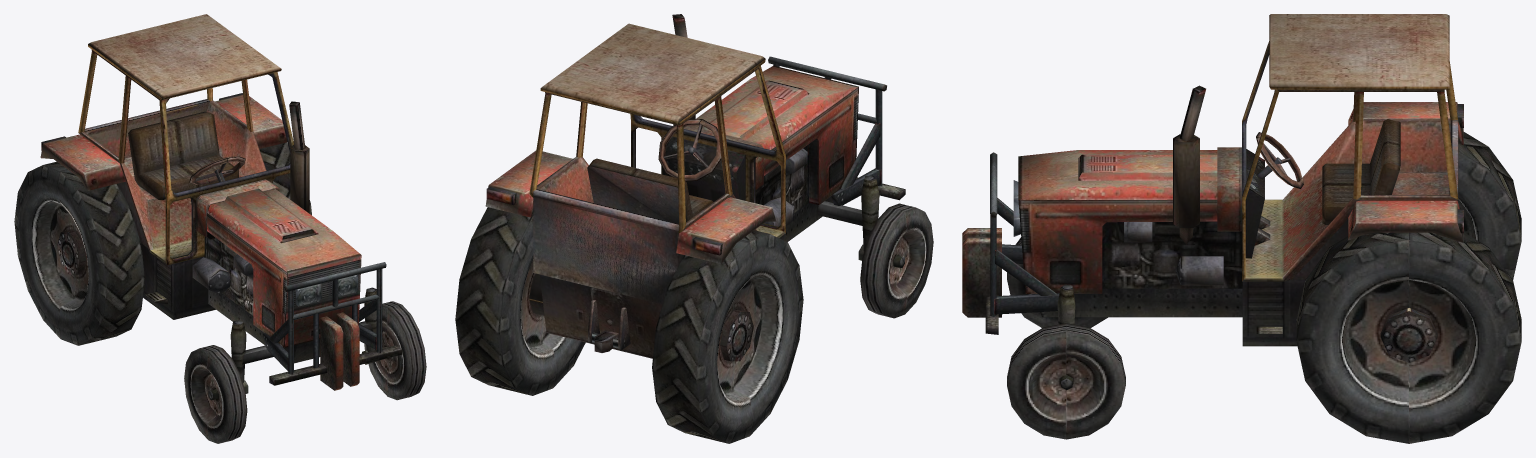
File: tractor.fbx
3 renders of one model, left to right at view 1: azimuth 30°, elevation 25°; view 2: azimuth 150°, elevation 25°; view 3: azimuth 270°, elevation 25°, orthographic. The views are drawn at different scales.
Visible parts, largest first — view 1: body, b2, f2, f1, b1; view 2: body, b2, b1, f2; view 3: body, b1, f1, b2, f2.
Boxes of the visible parts, left/top/right/bottom form: body: left=40, top=14, right=402, bottom=400; b2: left=14, top=161, right=144, bottom=345; f2: left=184, top=345, right=247, bottom=443; f1: left=364, top=301, right=426, bottom=400; b1: left=259, top=142, right=311, bottom=215; body: left=485, top=14, right=905, bottom=361; b2: left=652, top=230, right=803, bottom=443; b1: left=455, top=207, right=585, bottom=395; f2: left=860, top=203, right=933, bottom=318; body: left=962, top=14, right=1463, bottom=390; b1: left=1296, top=232, right=1521, bottom=443; f1: left=1007, top=323, right=1125, bottom=439; b2: left=1458, top=132, right=1521, bottom=279; f2: left=1007, top=237, right=1107, bottom=327.
Bounding box in the file's own units: 244 × 300 × 455.
Materials: 1 (1 with a texture image).
